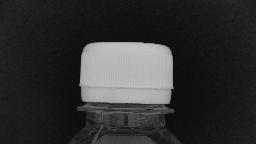Good Cap: (72, 37, 180, 119)
